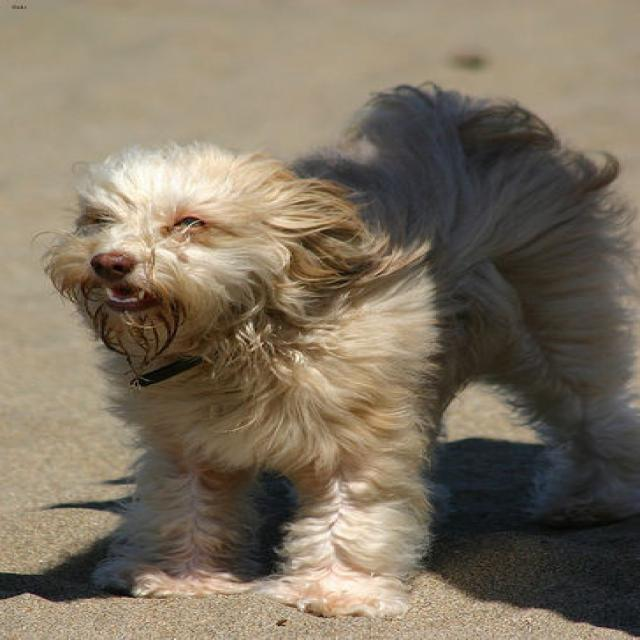dog-havanese: (25, 69, 636, 628)
